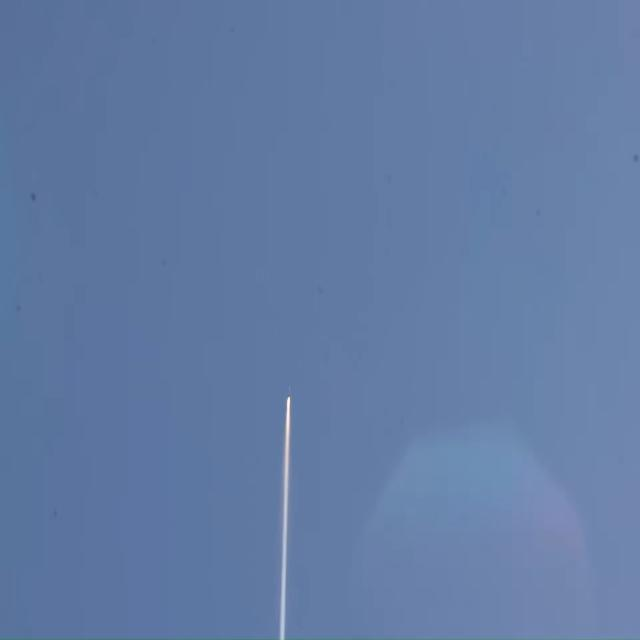Rocket: (287, 383, 291, 397)
